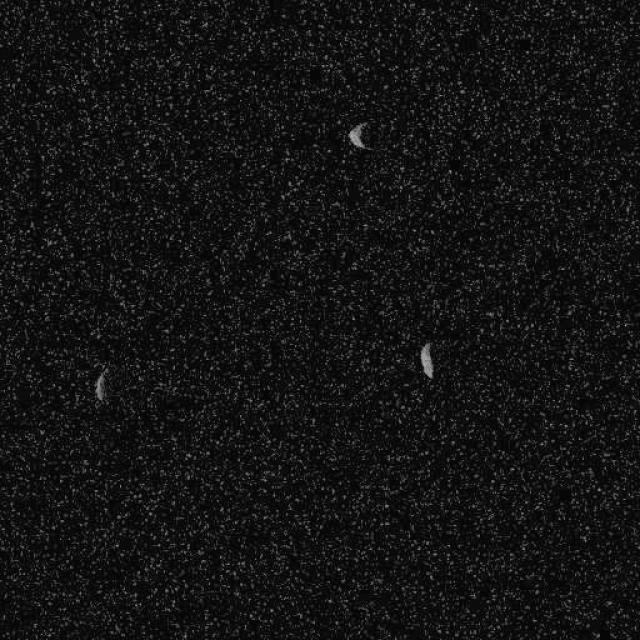D2: (347, 120, 372, 151), (418, 340, 434, 379), (92, 368, 109, 403)
